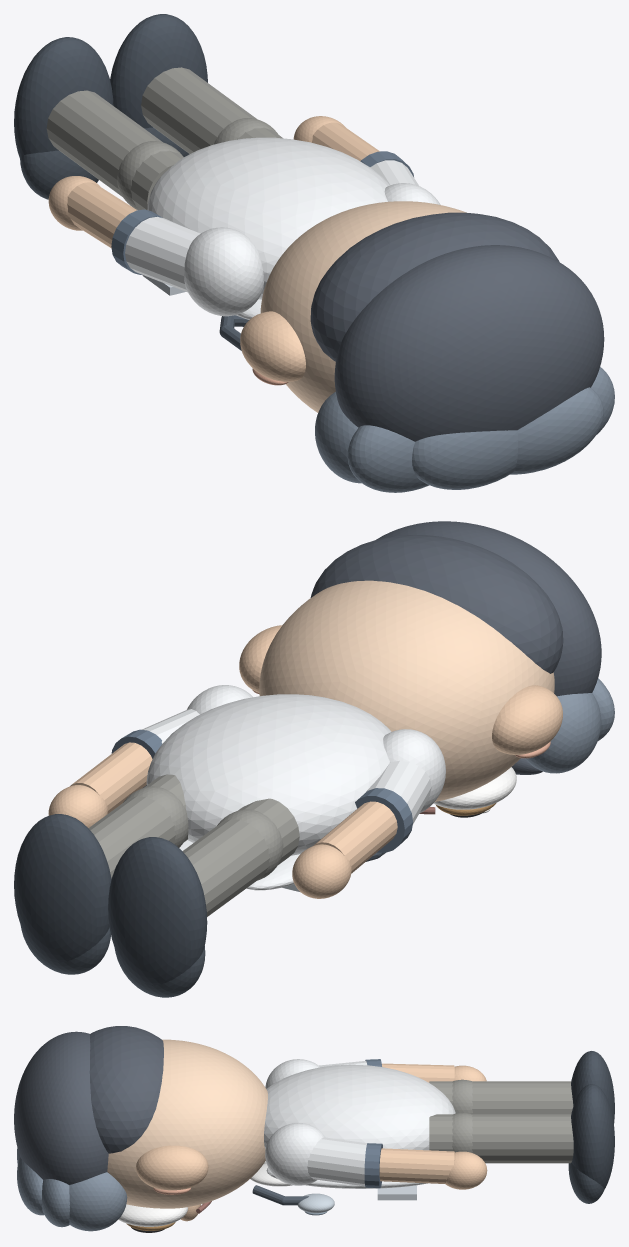
Rendered from dokter_kartun_3d(1).glb.
The picture shows the model from 3 angles, top to bottom: view 1: azimuth 30°, elevation 25°; view 2: azimuth 150°, elevation 25°; view 3: azimuth 270°, elevation 25°; orthographic projection. The views are drawn at different scales.
Visible parts, largest first — view 1: hair_cap, coat_body, hair_back, head, left_leg, left_shoe, right_leg, right_shoe, shoulder-1, hair_swoop1, hair_swoop2, hair_swoop0 (+13 smaller); view 2: head, coat_body, hair_back, left_shoe, right_shoe, hair_cap, left_leg, right_leg, left_ear, hair_swoop4, forearm-1, forearm1 (+16 smaller); view 3: head, coat_body, hair_cap, hair_back, right_leg, left_leg, right_shoe, hair_swoop5, right_ear, shoulder1, forearm1, sleeve1 (+17 smaller).
Boxes of the visible parts, x1,y1,x2,y2 form: hair_cap: (334, 245, 604, 441); coat_body: (147, 137, 389, 299); hair_back: (310, 212, 559, 361); head: (260, 201, 466, 412); left_leg: (46, 90, 183, 209); left_shoe: (14, 37, 113, 157); right_leg: (141, 67, 282, 153); right_shoe: (110, 14, 207, 128); shoulder-1: (184, 227, 263, 316); hair_swoop1: (412, 430, 517, 489); hair_swoop2: (510, 387, 603, 474); hair_swoop0: (347, 425, 429, 492); head: (259, 580, 554, 801); coat_body: (146, 694, 391, 855); hair_back: (310, 535, 563, 673); left_shoe: (108, 837, 207, 985); right_shoe: (14, 814, 111, 962); hair_cap: (376, 521, 601, 696); left_leg: (182, 798, 299, 916); right_leg: (88, 774, 188, 878); left_ear: (492, 685, 562, 754); hair_swoop4: (525, 693, 601, 773); forearm-1: (313, 801, 397, 873); forearm1: (70, 742, 152, 813); head: (107, 1039, 267, 1208); coat_body: (264, 1064, 455, 1150); hair_cap: (14, 1031, 108, 1184); hair_back: (89, 1026, 163, 1153); right_leg: (429, 1114, 573, 1163); left_leg: (429, 1081, 573, 1114); right_shoe: (571, 1084, 614, 1188); hair_swoop5: (69, 1172, 127, 1231); right_ear: (136, 1145, 208, 1190); shoulder1: (265, 1123, 323, 1185); forearm1: (379, 1148, 454, 1183); sleeve1: (307, 1137, 367, 1186).
Bounding box in the file's own units: 1.76 × 1.37 × 4.14.
